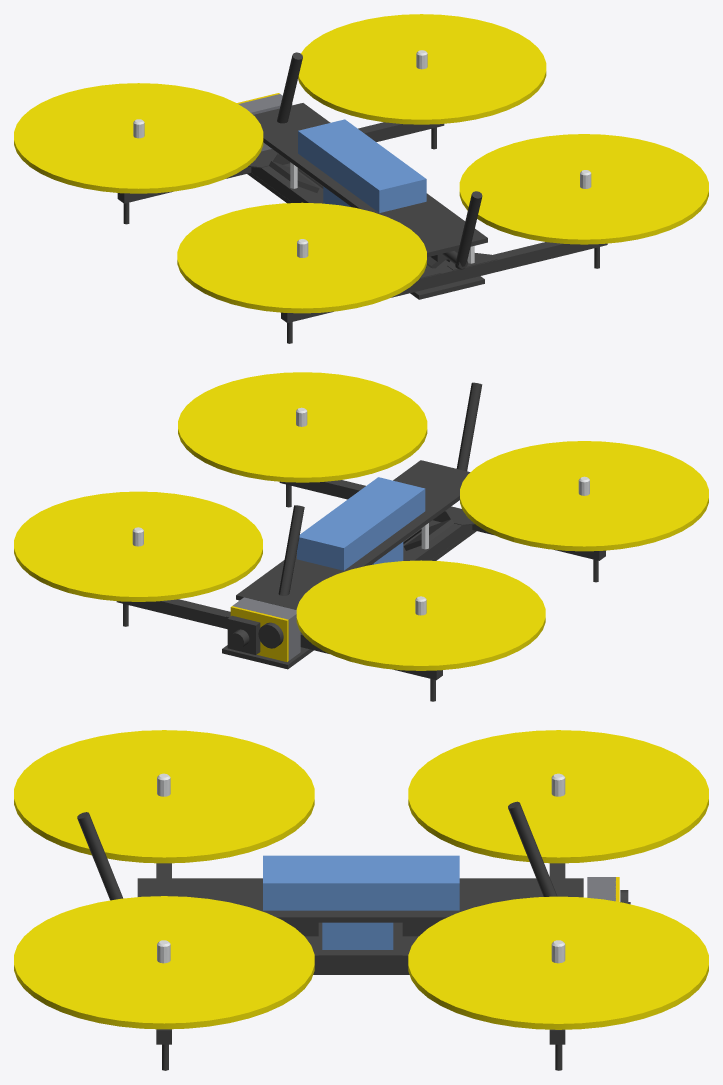
Rendered from quad.glb.
The picture shows the model from 3 angles, top to bottom: view 1: azimuth 30°, elevation 25°; view 2: azimuth 150°, elevation 25°; view 3: azimuth 270°, elevation 25°; orthographic projection. The views are drawn at different scales.
Visible parts, largest first — view 1: 3DSMeshMatrix (×13); view 2: 3DSMeshMatrix (×16); view 3: 3DSMeshMatrix (×14).
Boxes of the visible parts, bbox=[...] form: 3DSMeshMatrix (×13): bbox=[14, 14, 708, 322]; 3DSMeshMatrix (×16): bbox=[14, 372, 708, 680]; 3DSMeshMatrix (×14): bbox=[14, 730, 708, 1029].
Bounding box in the file's own units: 53034 × 14712 × 53002.
